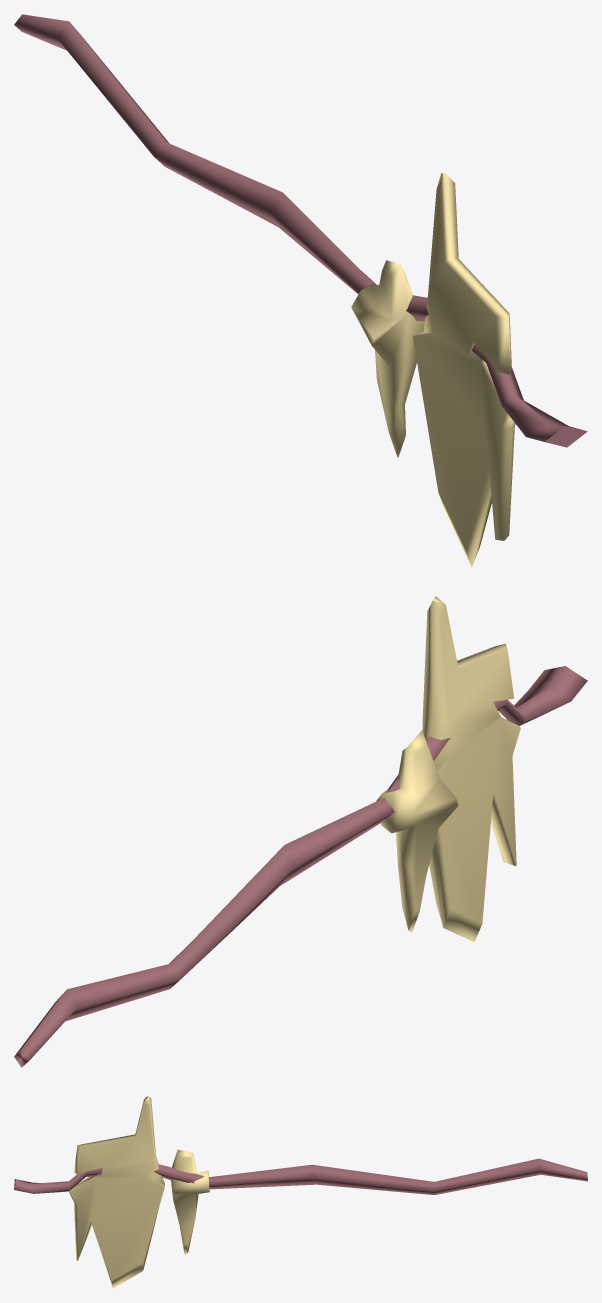
Rendered from SM_LizardAxe.fbx.
The picture shows the model from 3 angles, top to bottom: view 1: azimuth 30°, elevation 25°; view 2: azimuth 150°, elevation 25°; view 3: azimuth 270°, elevation 25°; orthographic projection. The views are drawn at different scales.
Parts seen in each view (by area): view 1: CH_Lizard_Axe_02; view 2: CH_Lizard_Axe_02; view 3: CH_Lizard_Axe_02.
Boxes of the visible parts, <box> form: CH_Lizard_Axe_02: <box>14,14,587,567</box>; CH_Lizard_Axe_02: <box>14,596,587,1067</box>; CH_Lizard_Axe_02: <box>14,1096,587,1288</box>.
Bounding box in the file's own units: 3.28 × 17.81 × 47.73.
